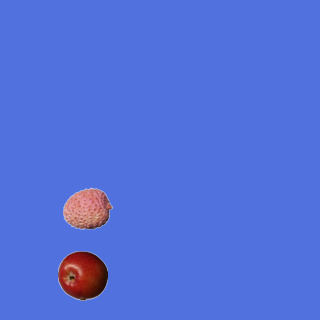Apple Braeburn: (57, 250, 107, 300)
Lychee: (62, 183, 112, 233)
